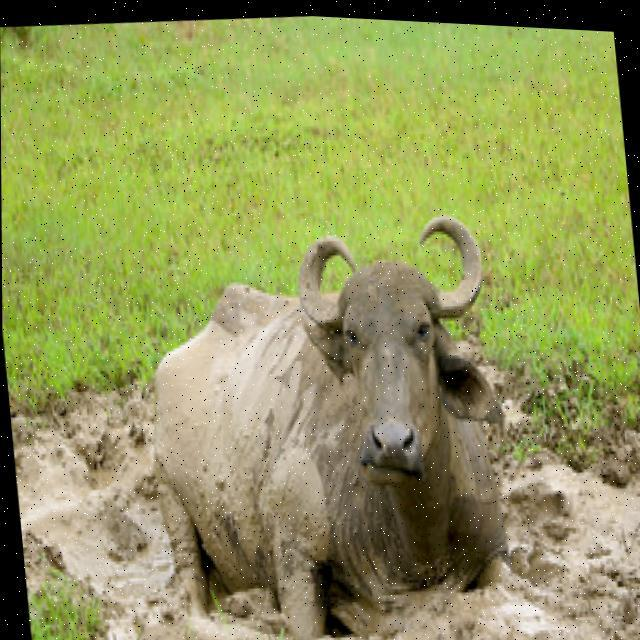Buffalo: (124, 188, 526, 640)
